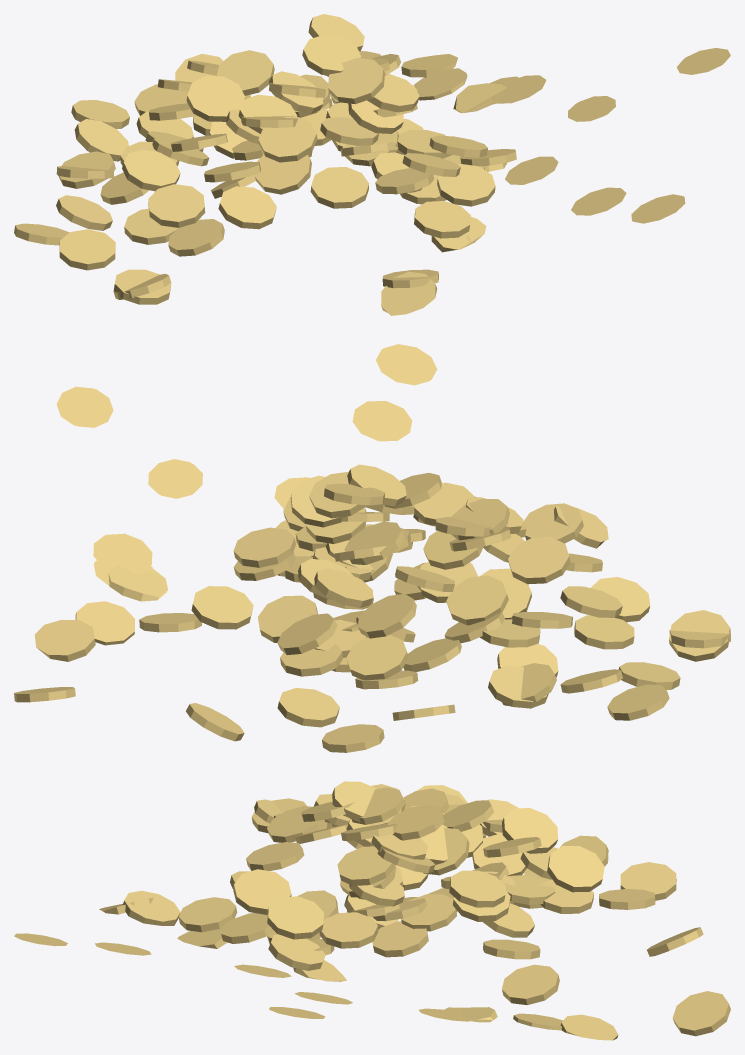
File: coin-pile-v01.glb
The picture shows the model from 3 angles, top to bottom: view 1: azimuth 30°, elevation 25°; view 2: azimuth 150°, elevation 25°; view 3: azimuth 270°, elevation 25°; orthographic projection. The views are drawn at different scales.
Parts seen in each view (by area): view 1: coin-pile; view 2: coin-pile; view 3: coin-pile.
Part boxes in pixels (x1,y1,x2,y2): coin-pile: (14, 14, 730, 315); coin-pile: (14, 344, 730, 752); coin-pile: (14, 781, 730, 1040).
Size of the model in its own units: 1.13 by 0.2464 by 1.1.
